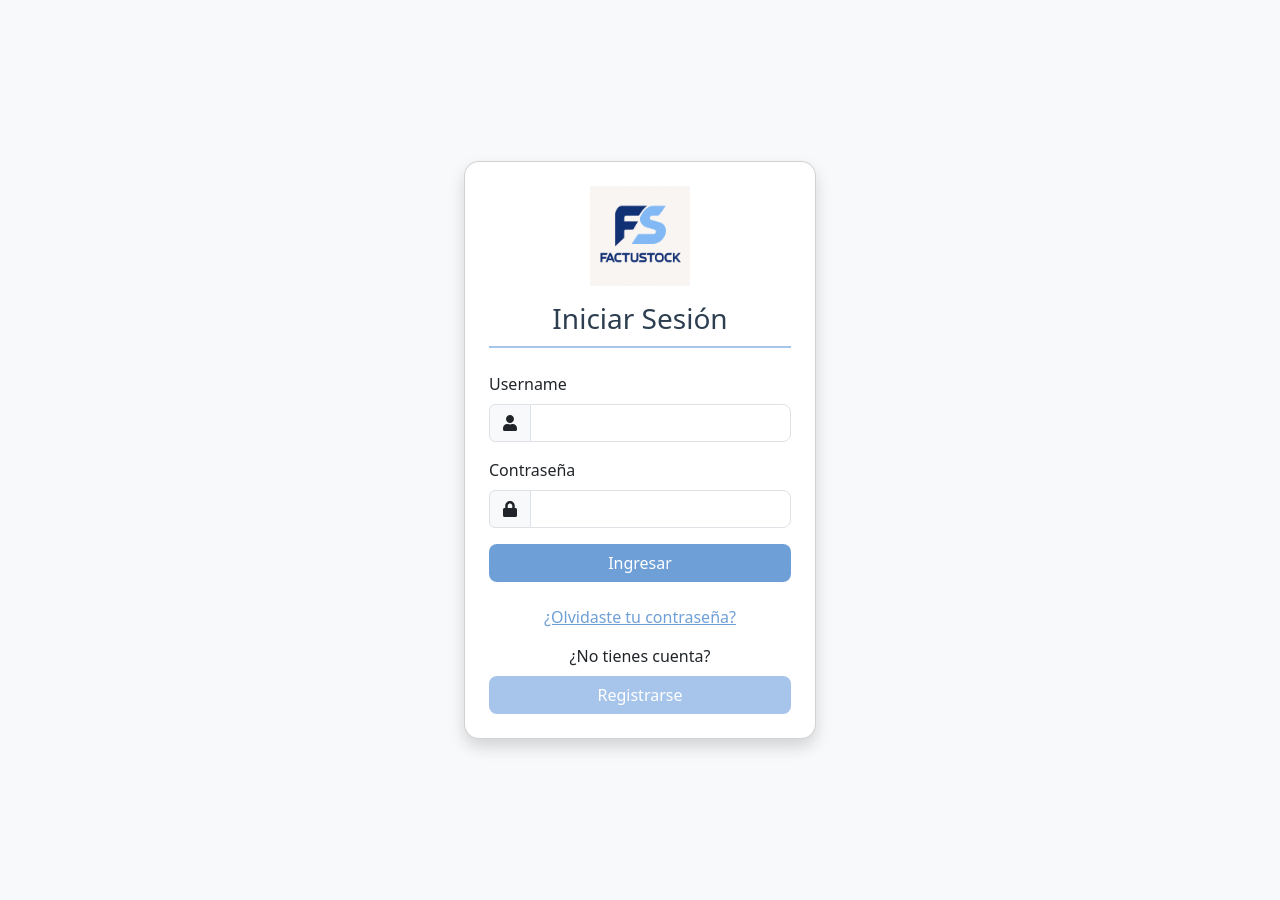
Test case: Login › abre y cierra modal de recuperación de contraseña
Click the button "¿Olvidaste tu contraseña?": (640, 617) [531, 598, 749, 636]
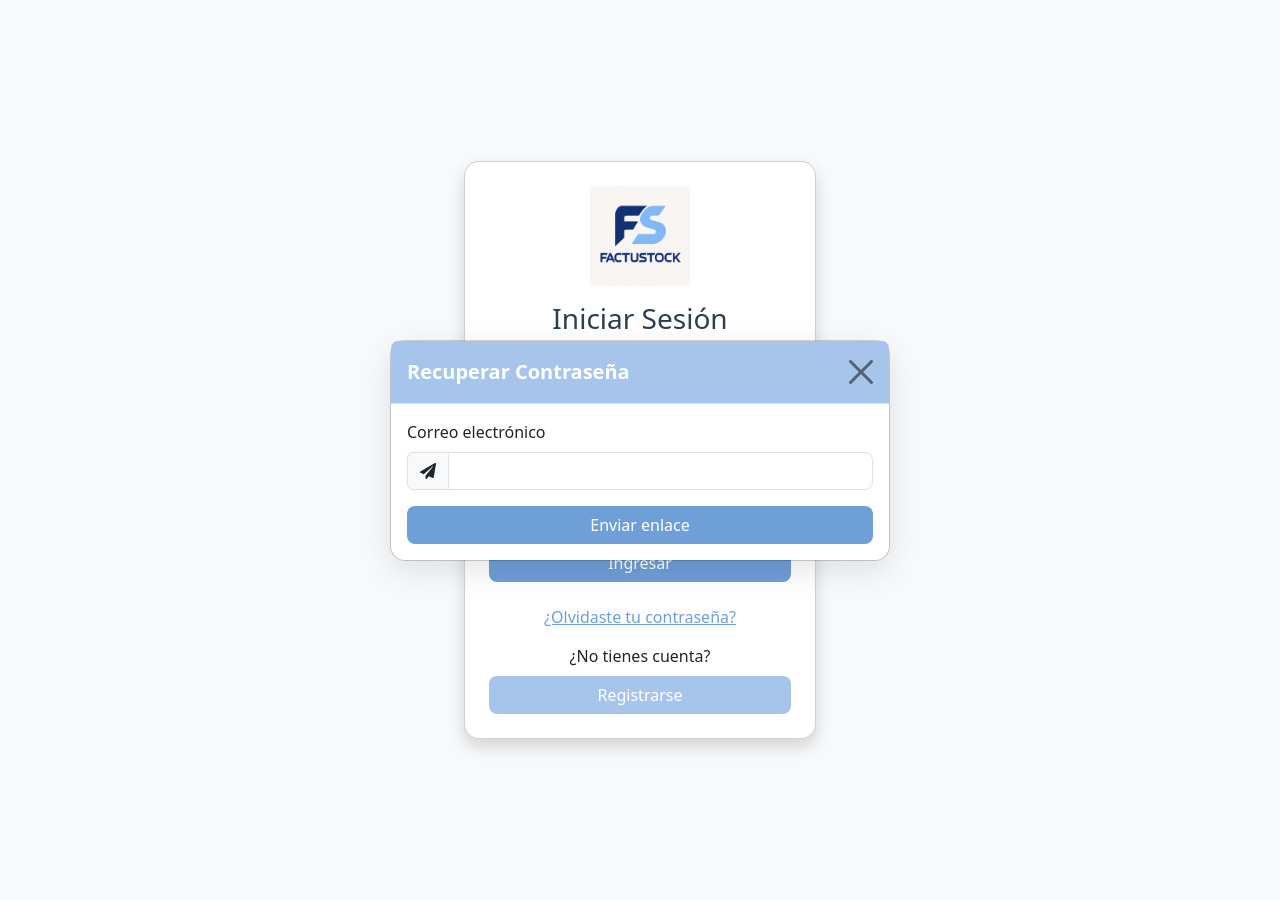
Expected: the heading "Recuperar Contraseña" is shown, [407, 356, 630, 386]
Click the button named "cerrar": (861, 372) [841, 352, 881, 392]
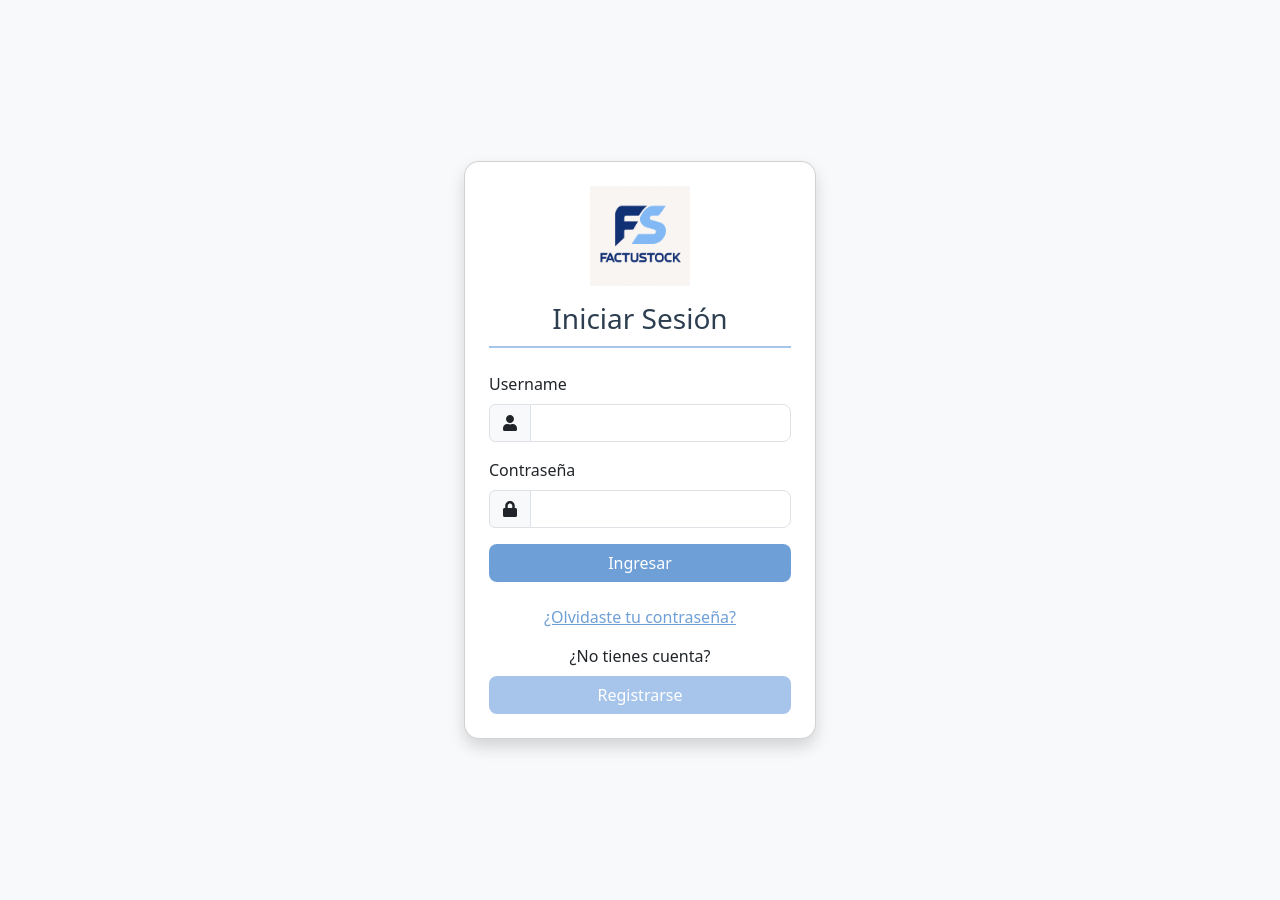
Expected: the heading "Recuperar Contraseña" is gone
